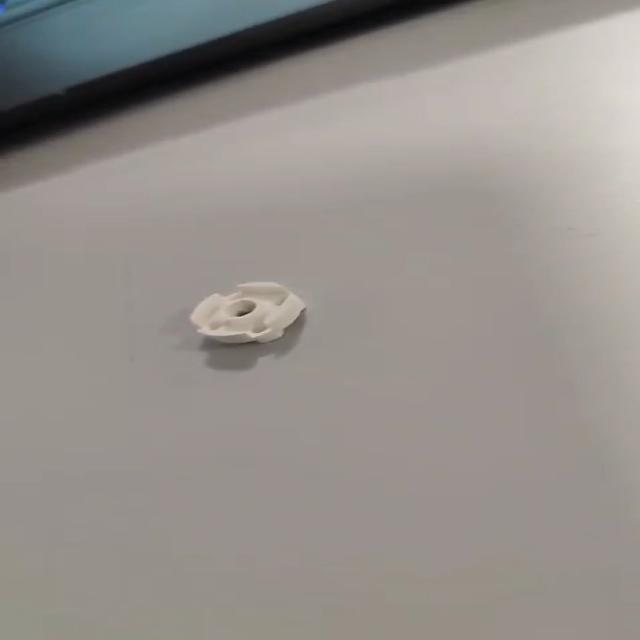S2x2x0: (188, 279, 306, 345)
